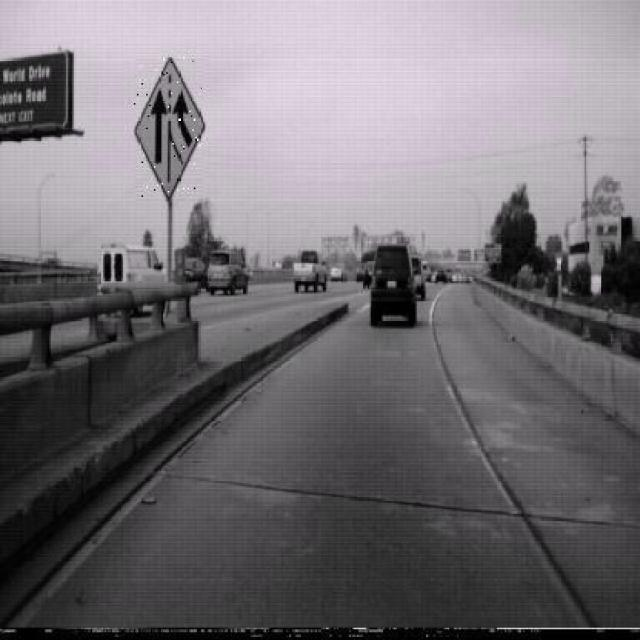addedLane: (134, 59, 205, 203)
